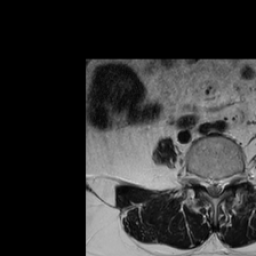CCS_normal: (211, 173, 218, 200)
LFS_normal: (225, 168, 234, 191)
LLS_normal: (219, 173, 226, 197)
RFS_normal: (196, 169, 204, 191)
RLS_normal: (204, 173, 211, 196)
